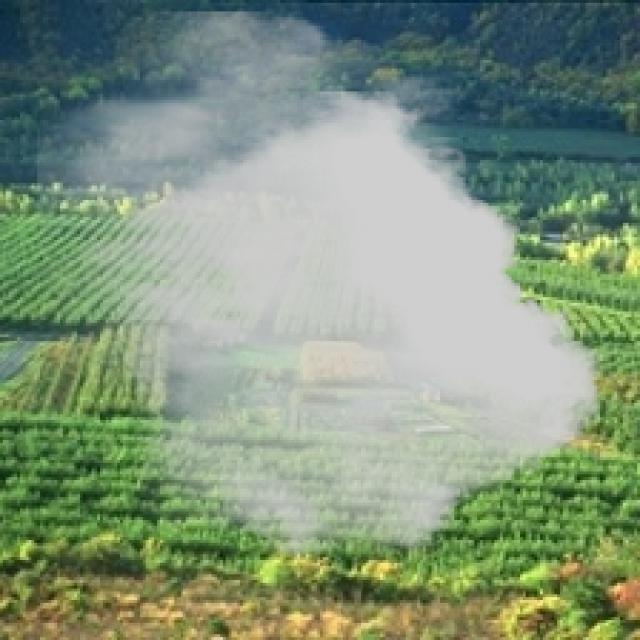smoke: (37, 11, 600, 560)
